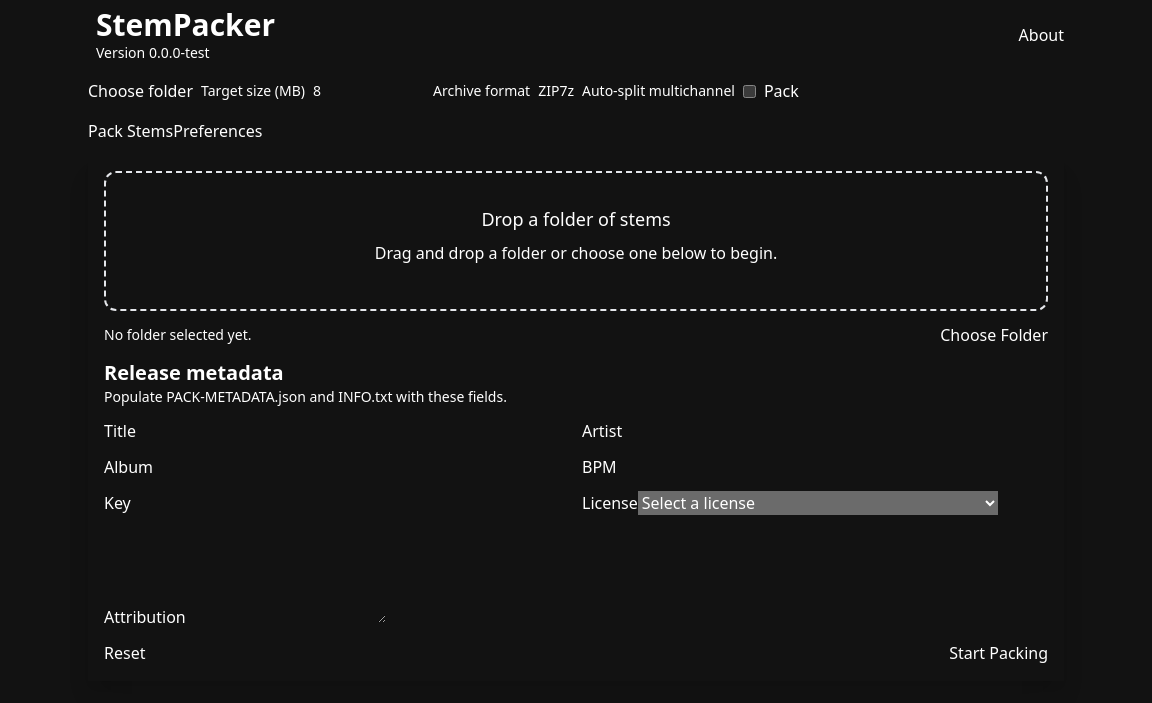
multichannel split decision flow › switches to 7z volumes without re-prompting
Click the button "Choose Folder": click(994, 335) [940,323,1048,347]
(page scrolled)
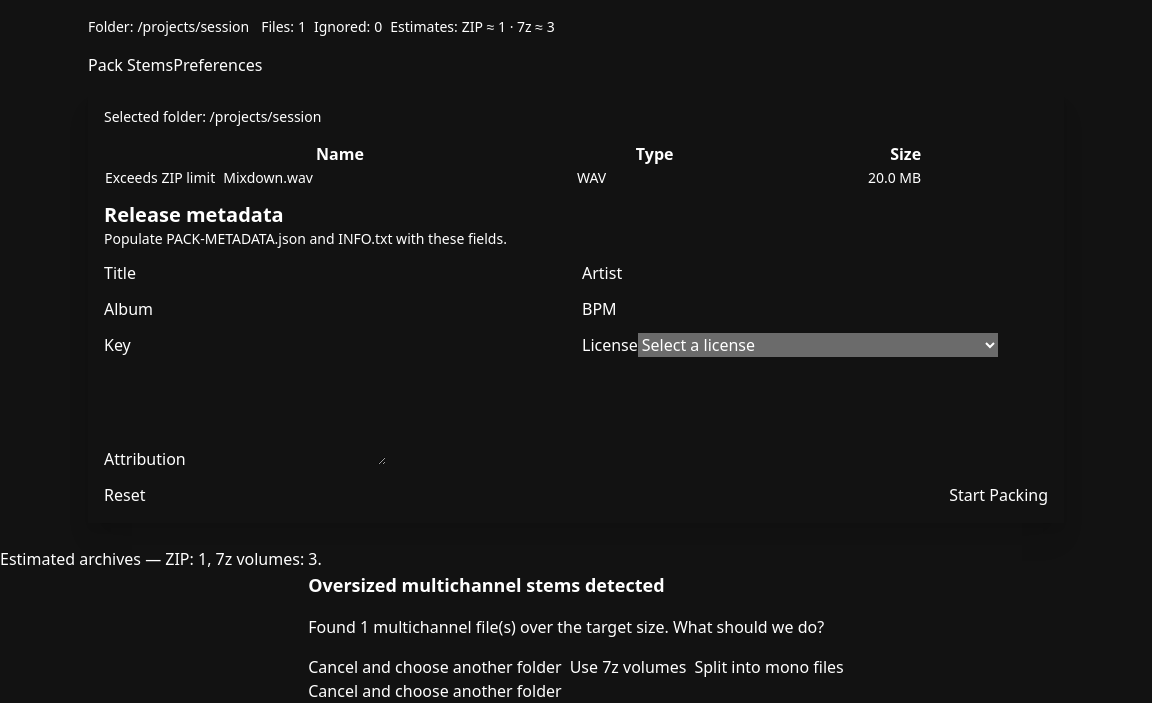
Expected: the text "Oversized multichannel stems detected" is shown, [308,573,664,597]
Click the button "Use 7z volumes": click(628, 667) [570,655,686,679]
(page scrolled)
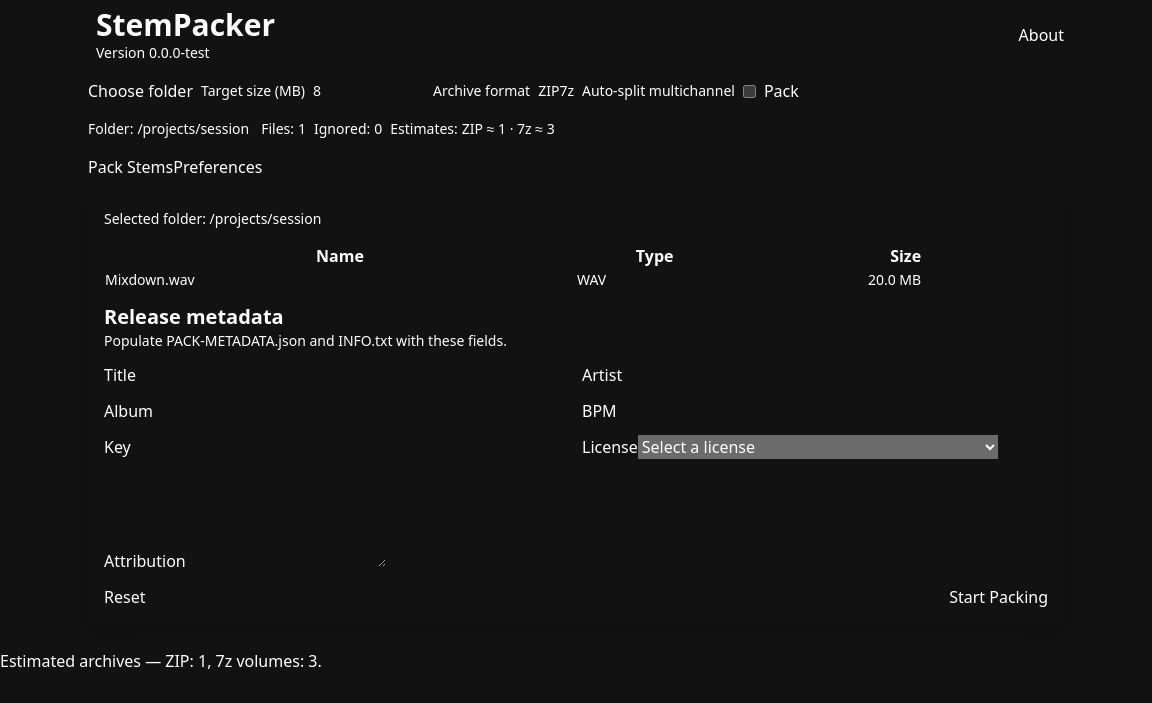
Expected: the heading "Oversized multichannel stems detected" is gone
